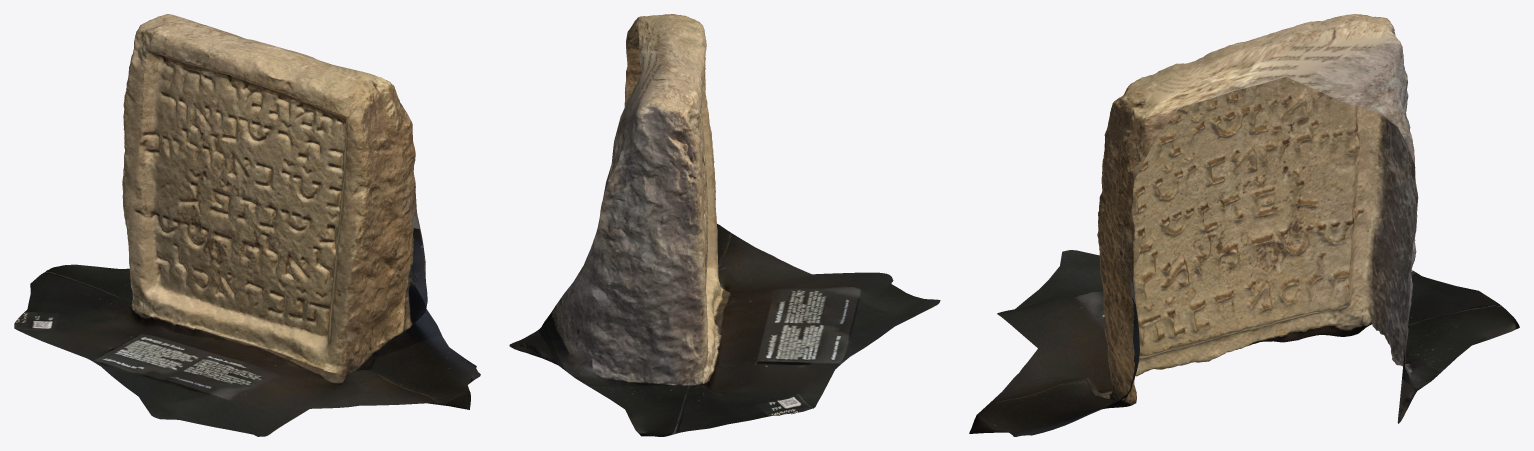
Rendered from grabstein.glb.
3 renders of one model, left to right at view 1: azimuth 30°, elevation 25°; view 2: azimuth 150°, elevation 25°; view 3: azimuth 270°, elevation 25°, orthographic. The views are drawn at different scales.
Parts seen in each view (by area): view 1: 3DModel; view 2: 3DModel; view 3: 3DModel.
Part boxes in pixels (box(x1,y1,x2,y2)): 3DModel: box(14, 14, 480, 436); 3DModel: box(509, 14, 940, 436); 3DModel: box(969, 14, 1519, 436).
Bounding box in the file's own units: 0.6113 × 0.5534 × 0.8083.
1 material, 1 textured.
